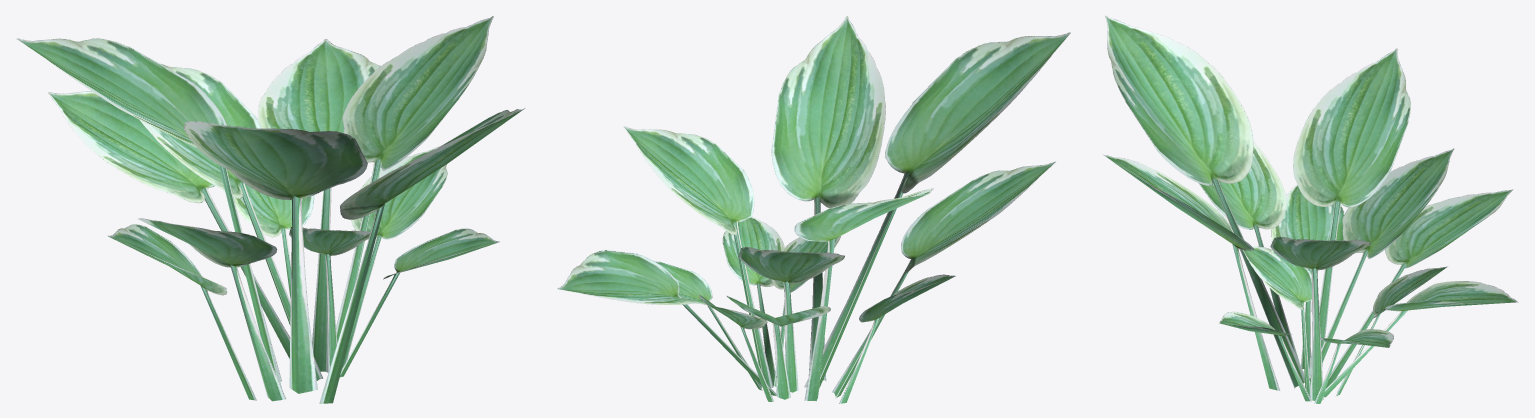
Rendered from plant_small_wg_03G.fbx.
The picture shows the model from 3 angles, left to right: view 1: azimuth 30°, elevation 25°; view 2: azimuth 150°, elevation 25°; view 3: azimuth 270°, elevation 25°; orthographic projection. The views are drawn at different scales.
Visible parts, largest first — view 1: plant_small_wg_03G; view 2: plant_small_wg_03G; view 3: plant_small_wg_03G.
Part boxes in pixels (<box>): plant_small_wg_03G: <box>17,16,525,403</box>; plant_small_wg_03G: <box>557,16,1070,403</box>; plant_small_wg_03G: <box>1103,15,1518,403</box>.
Bounding box in the file's own units: 59.98 × 52.72 × 66.84.
